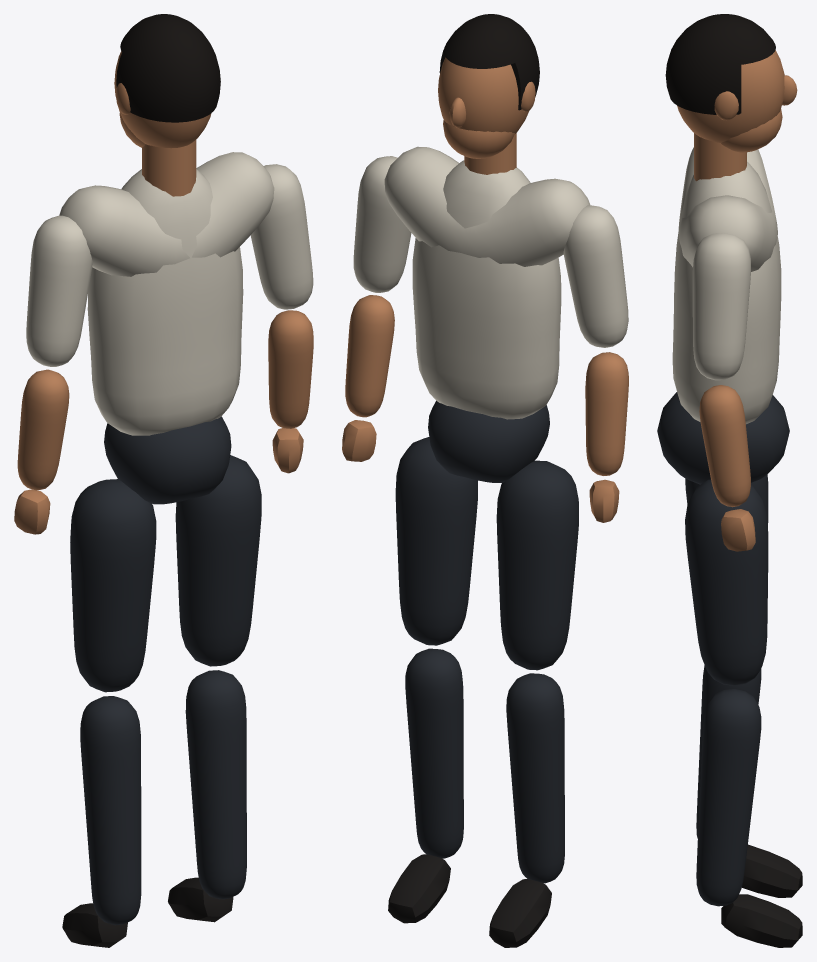
File: Person.fbx
The picture shows the model from 3 angles, left to right: view 1: azimuth 30°, elevation 25°; view 2: azimuth 150°, elevation 25°; view 3: azimuth 270°, elevation 25°; orthographic projection. The views are drawn at different scales.
Visible parts, largest first — view 1: Torso, Thigh_L, Shin_L, Shin_R, Thigh_R, UpperArm_L, ForeArm_L, UpperArm_R, ForeArm_R; view 2: Torso, Thigh_L, Shin_R, Shin_L, Thigh_R, UpperArm_L, ForeArm_R, ForeArm_L, UpperArm_R; view 3: Torso, Shin_R, Thigh_R, UpperArm_R, ForeArm_R, Shin_L, Thigh_L.
Boxes of the visible parts, x1,y1,x2,y2 form: Torso: (59, 14, 274, 504); Thigh_L: (70, 479, 156, 692); Shin_L: (62, 696, 141, 947); Shin_R: (168, 670, 246, 922); Thigh_R: (175, 455, 261, 666); UpperArm_L: (26, 215, 92, 366); ForeArm_L: (14, 369, 69, 534); UpperArm_R: (250, 164, 313, 309); ForeArm_R: (268, 310, 313, 473); Torso: (384, 14, 590, 482); Thigh_L: (496, 460, 578, 670); Shin_R: (388, 648, 463, 923); Shin_L: (489, 673, 564, 947); Thigh_R: (395, 437, 477, 645); UpperArm_L: (563, 205, 628, 347); ForeArm_R: (342, 295, 394, 461); ForeArm_L: (585, 352, 628, 522); UpperArm_R: (353, 156, 411, 292); Torso: (657, 14, 797, 484); Shin_R: (696, 689, 802, 947); Thigh_R: (685, 479, 768, 685); UpperArm_R: (692, 233, 750, 380); ForeArm_R: (699, 385, 755, 551); Shin_L: (696, 665, 802, 897); Thigh_L: (685, 474, 768, 526).
Bounding box in the file's own units: 0.5424 × 1.69 × 0.2468.
